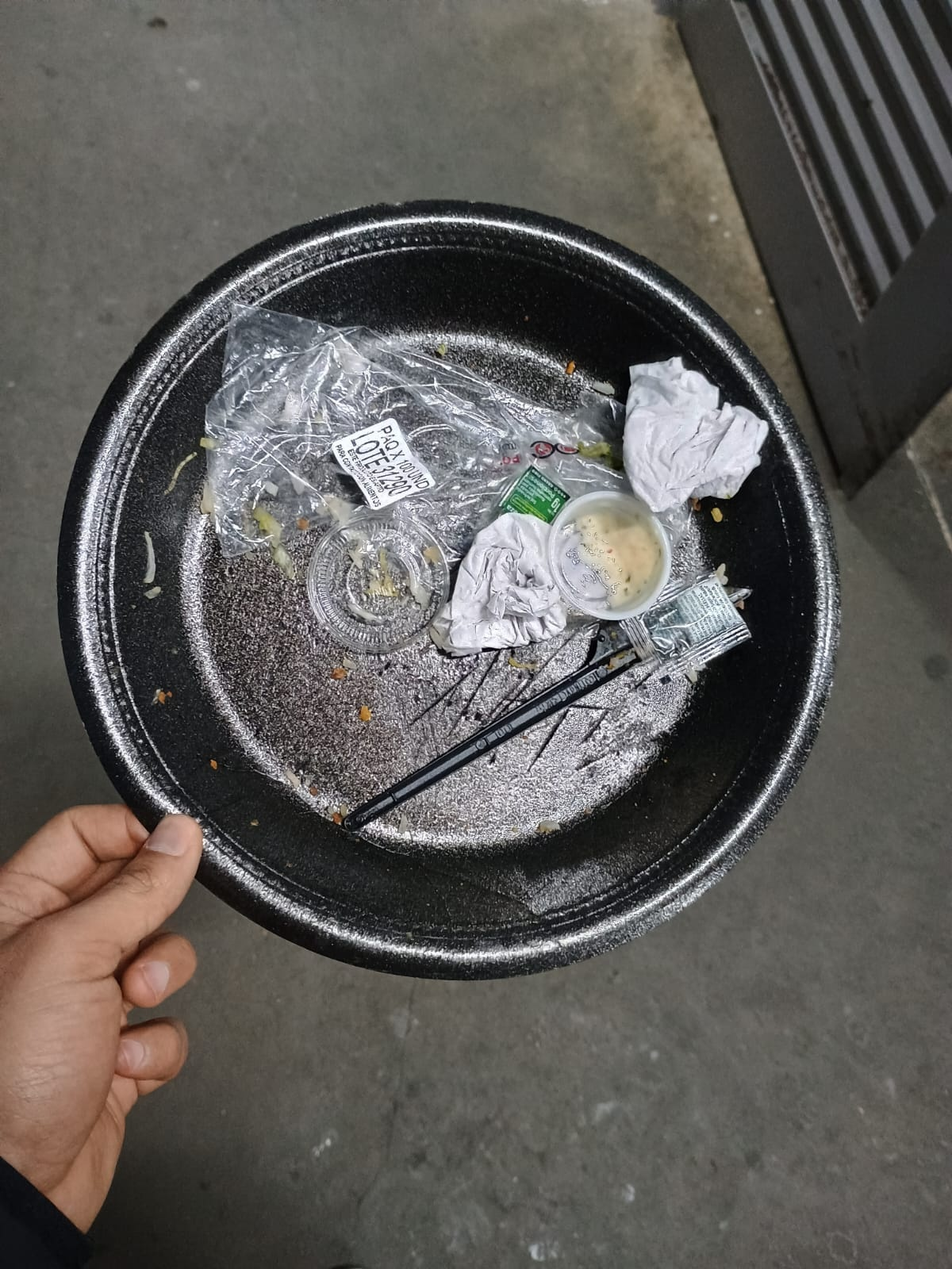Ordinario: (57, 200, 841, 979)
